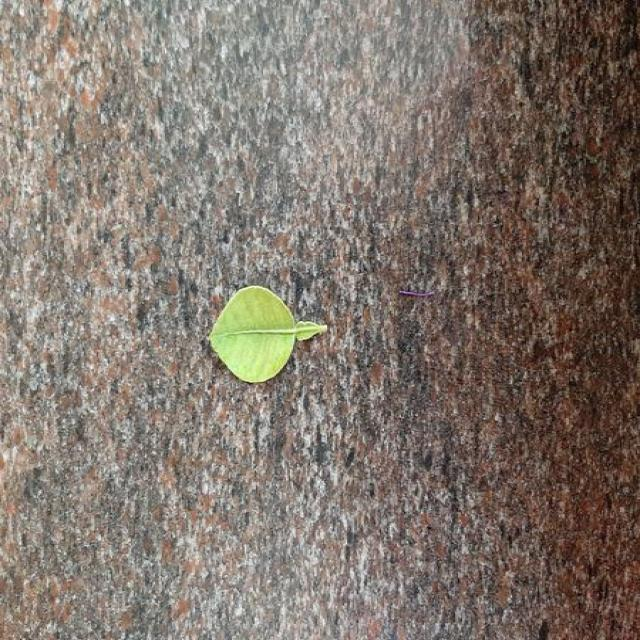lemon: (210, 286, 327, 382)
